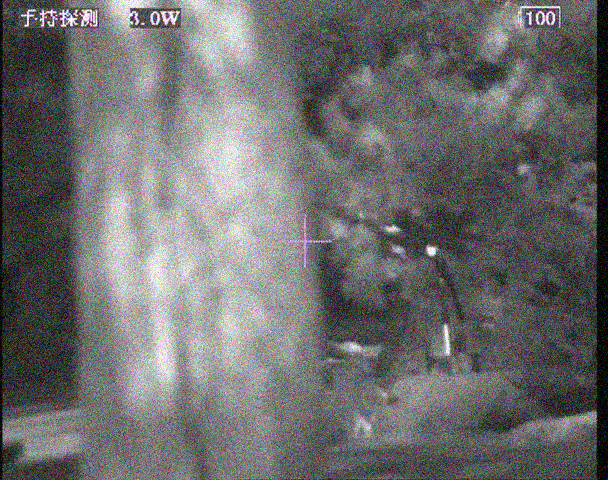my: (425, 245, 438, 258)
